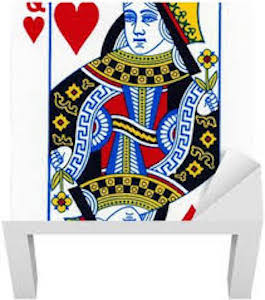QueenOfHearts: (10, 1, 261, 228)
